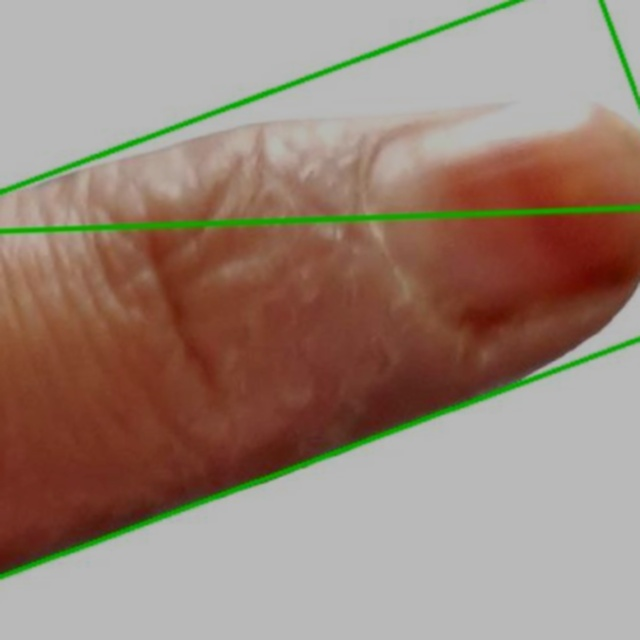Contact Dermatitis: (0, 0, 639, 617), (0, 207, 639, 639)
